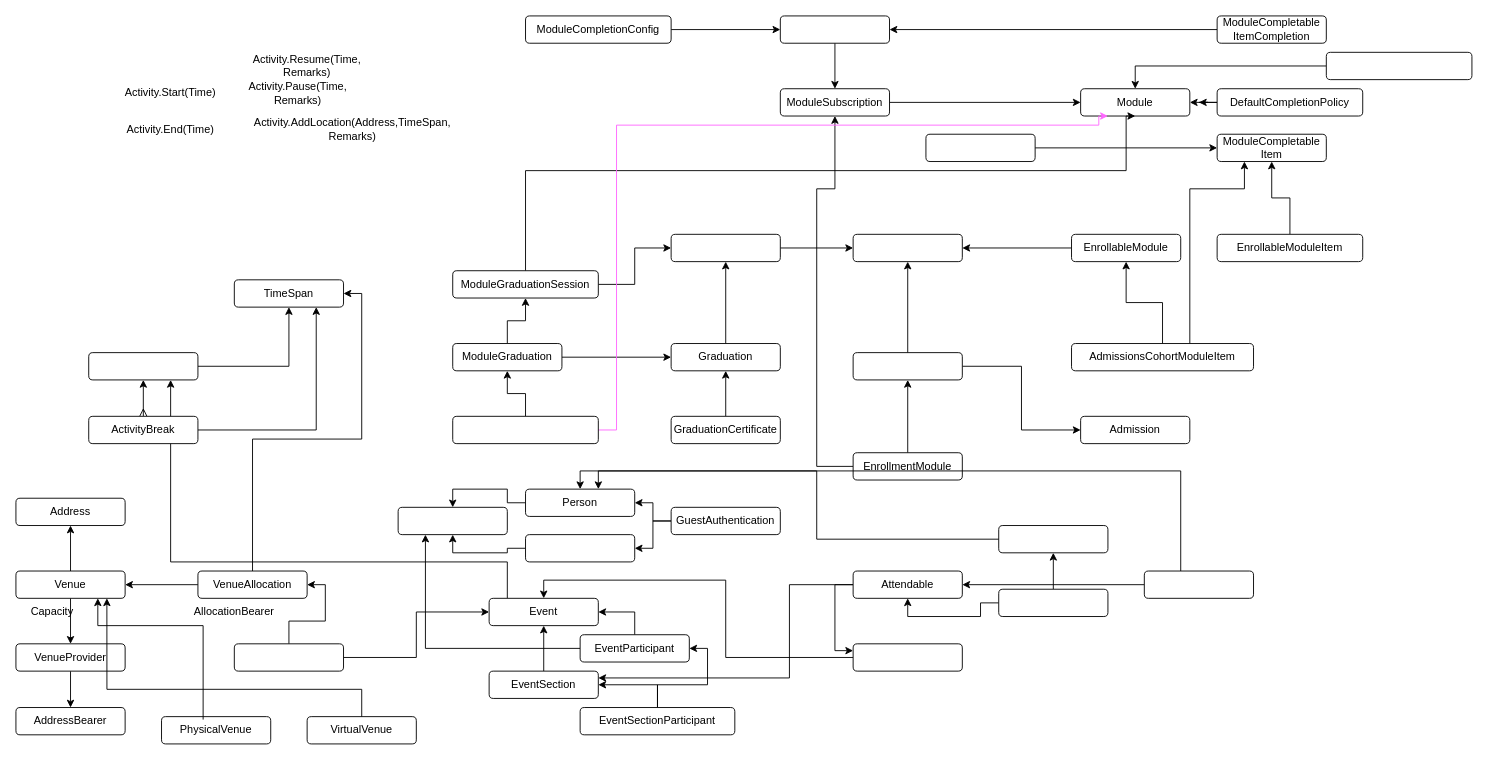
Some shapes in this 1488 by 760 pixel diagram are drawn without their labels. Each missing label, with the box of its shape:
Activity: (88, 352, 198, 380)
Attendance: (998, 588, 1108, 617)
AttendanceSession: (852, 643, 962, 671)
AttendanceToken: (998, 525, 1108, 553)
Attendee: (1143, 570, 1254, 598)
BioBearer: (397, 506, 507, 535)
CompletionPolicyOverride: (1325, 51, 1472, 80)
Enrollable: (852, 233, 962, 262)
Enrollment: (852, 352, 962, 380)
EventVenue: (233, 643, 344, 671)
GraduationSession: (670, 233, 780, 262)
Guest: (525, 534, 635, 562)
ModuleCompletion: (779, 15, 890, 43)
ModuleGraduationCertificate: (452, 415, 598, 444)
ModuleItem: (925, 133, 1035, 162)
